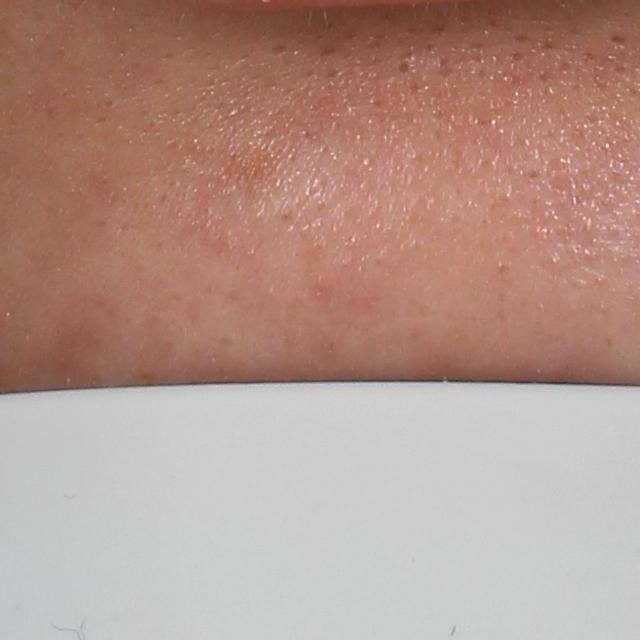comedo: (394, 59, 411, 77)
